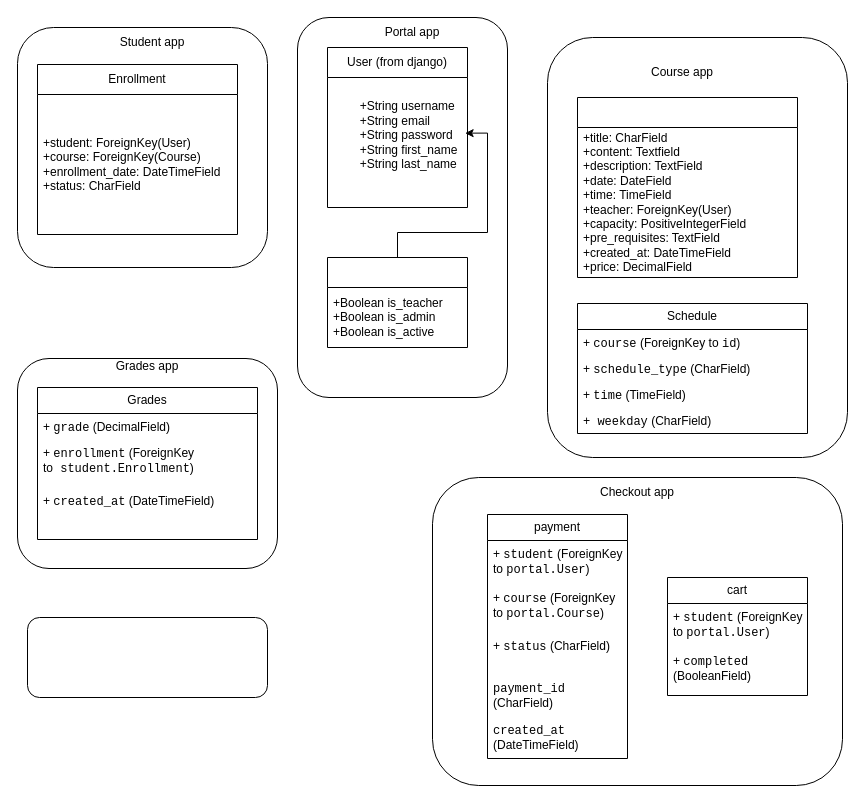
Image size: 865x803. Some labels were removed from this diagram. The box of each missing label's shape, as (x1, y1, x2, y2) in pixels:
Admin portal app: (26, 616, 268, 698)
Course: (576, 96, 798, 278)
User (custom): (326, 256, 468, 348)
